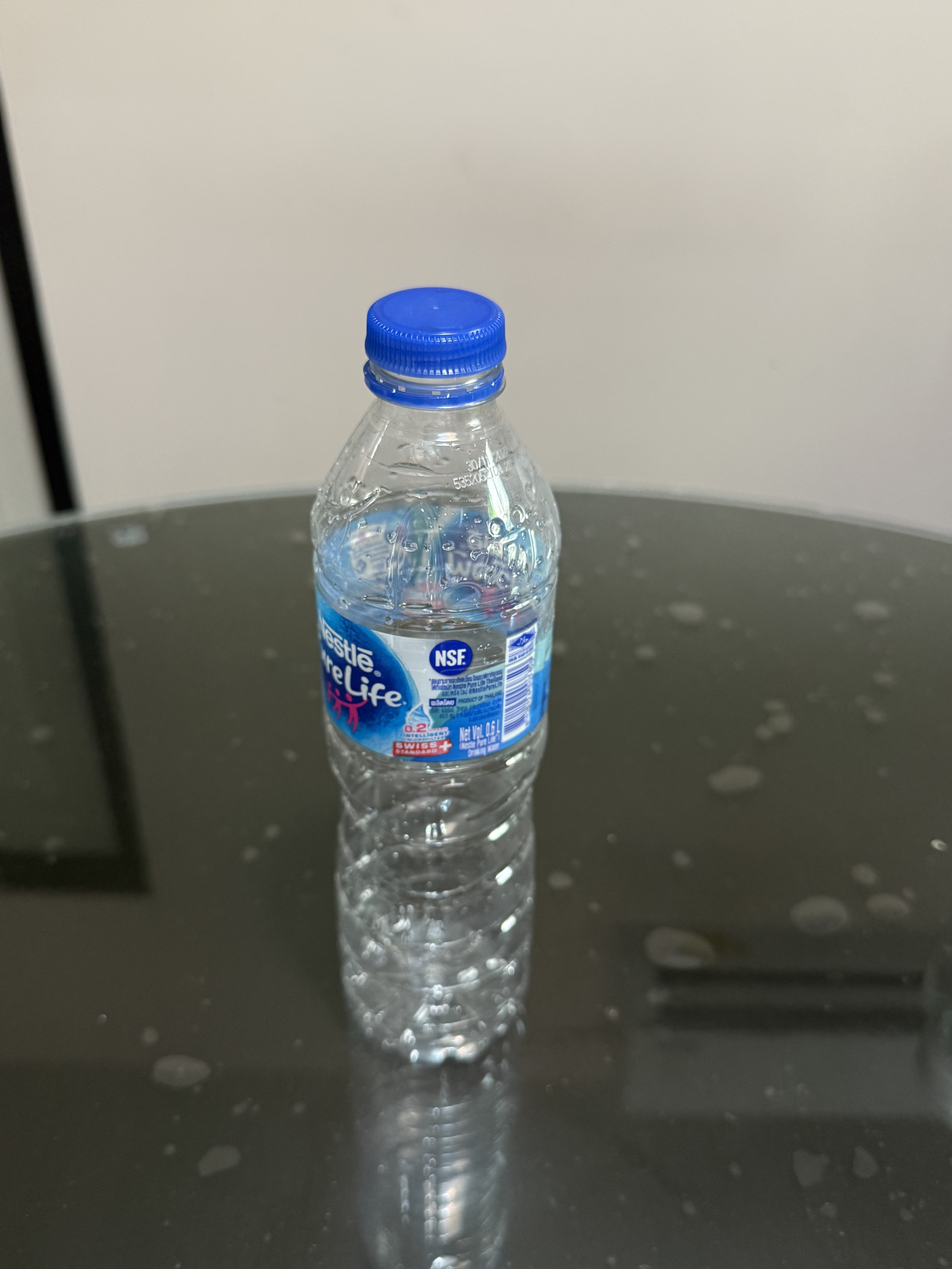half_cap: (357, 282, 510, 411)
